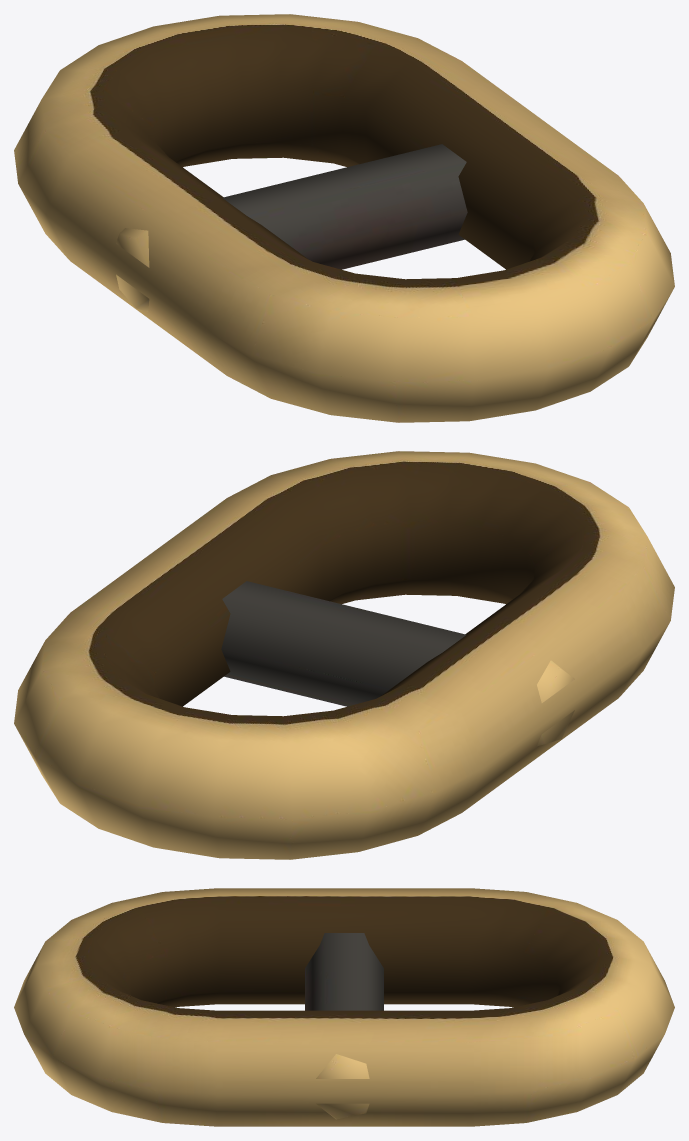
The model's file is ChainLink.glb.
The picture shows the model from 3 angles, top to bottom: view 1: azimuth 30°, elevation 25°; view 2: azimuth 150°, elevation 25°; view 3: azimuth 270°, elevation 25°; orthographic projection. The views are drawn at different scales.
Visible parts, largest first — view 1: ChainLink; view 2: ChainLink; view 3: ChainLink.
Boxes of the visible parts, x1,y1,x2,y2 form: ChainLink: [14, 14, 674, 422]; ChainLink: [14, 451, 674, 859]; ChainLink: [14, 888, 674, 1126].
Bounding box in the file's own units: 0.31 × 0.0877 × 0.5.
1 material, 1 textured.
